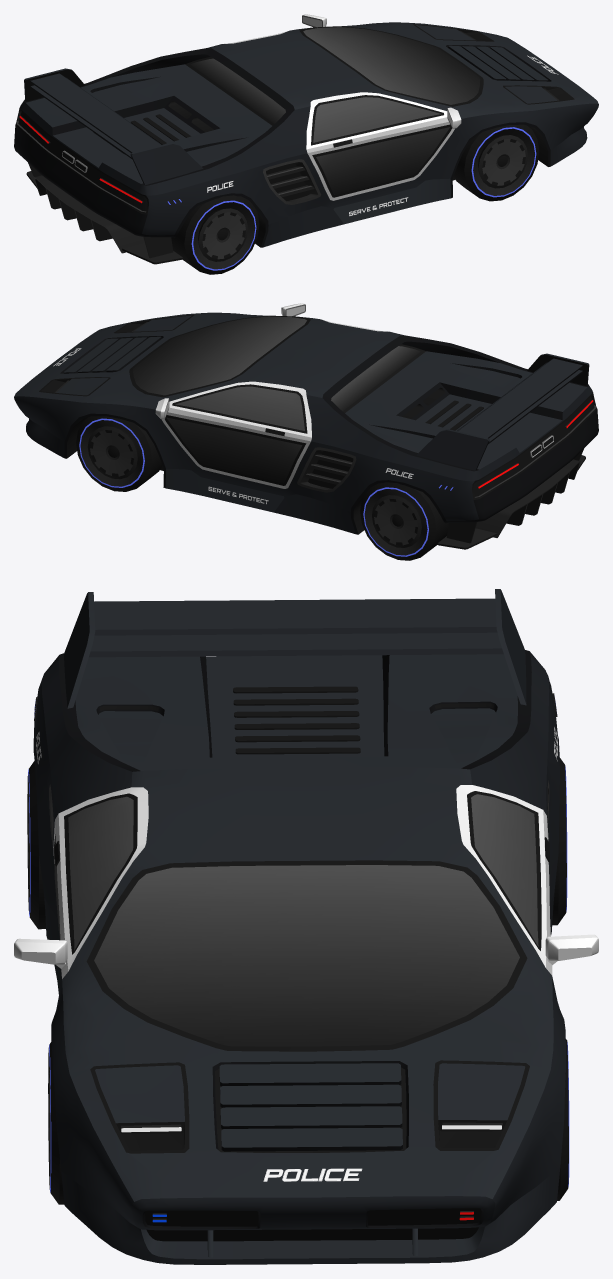
File: Car_119.glb
3 renders of one model, top to bottom at view 1: azimuth 30°, elevation 25°; view 2: azimuth 150°, elevation 25°; view 3: azimuth 270°, elevation 25°, orthographic. The views are drawn at different scales.
Visible parts, largest first — view 1: Car_119, wheel_3_Car_119_Wheel_2R, wheel_1_Car_119_Wheel_1R; view 2: Car_119, wheel_2_Car_119_Wheel_2L, wheel_0_Car_119_Wheel_1L; view 3: Car_119, wheel_3_Car_119_Wheel_2R, wheel_2_Car_119_Wheel_2L, wheel_1_Car_119_Wheel_1R, wheel_0_Car_119_Wheel_1L.
Boxes of the visible parts, x1=… form: Car_119: x1=14, y1=14, x2=598, y2=264; wheel_3_Car_119_Wheel_2R: x1=171, y1=195, x2=259, y2=274; wheel_1_Car_119_Wheel_1R: x1=453, y1=124, x2=539, y2=201; Car_119: x1=14, y1=303, x2=598, y2=549; wheel_2_Car_119_Wheel_2L: x1=360, y1=482, x2=448, y2=560; wheel_0_Car_119_Wheel_1L: x1=76, y1=416, x2=162, y2=491; Car_119: x1=14, y1=589, x2=598, y2=1264; wheel_3_Car_119_Wheel_2R: x1=27, y1=761, x2=45, y2=929; wheel_2_Car_119_Wheel_2L: x1=552, y1=757, x2=567, y2=925; wheel_1_Car_119_Wheel_1R: x1=48, y1=1042, x2=64, y2=1204; wheel_0_Car_119_Wheel_1L: x1=557, y1=1039, x2=569, y2=1200.
Bounding box in the file's own units: 4.4 × 1.09 × 2.27.
Materials: 3 (3 with a texture image).
